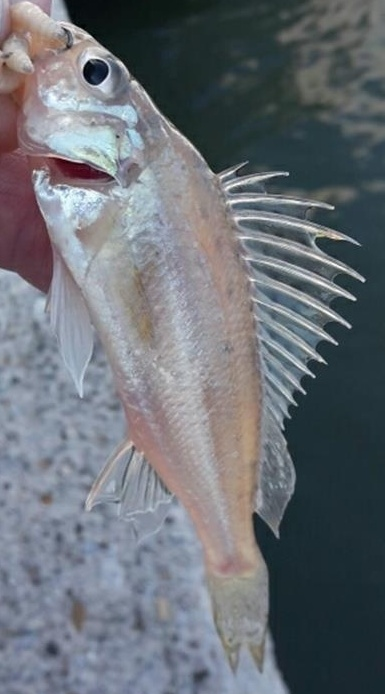Gymnocephalus cernuus: (20, 20, 365, 674)
